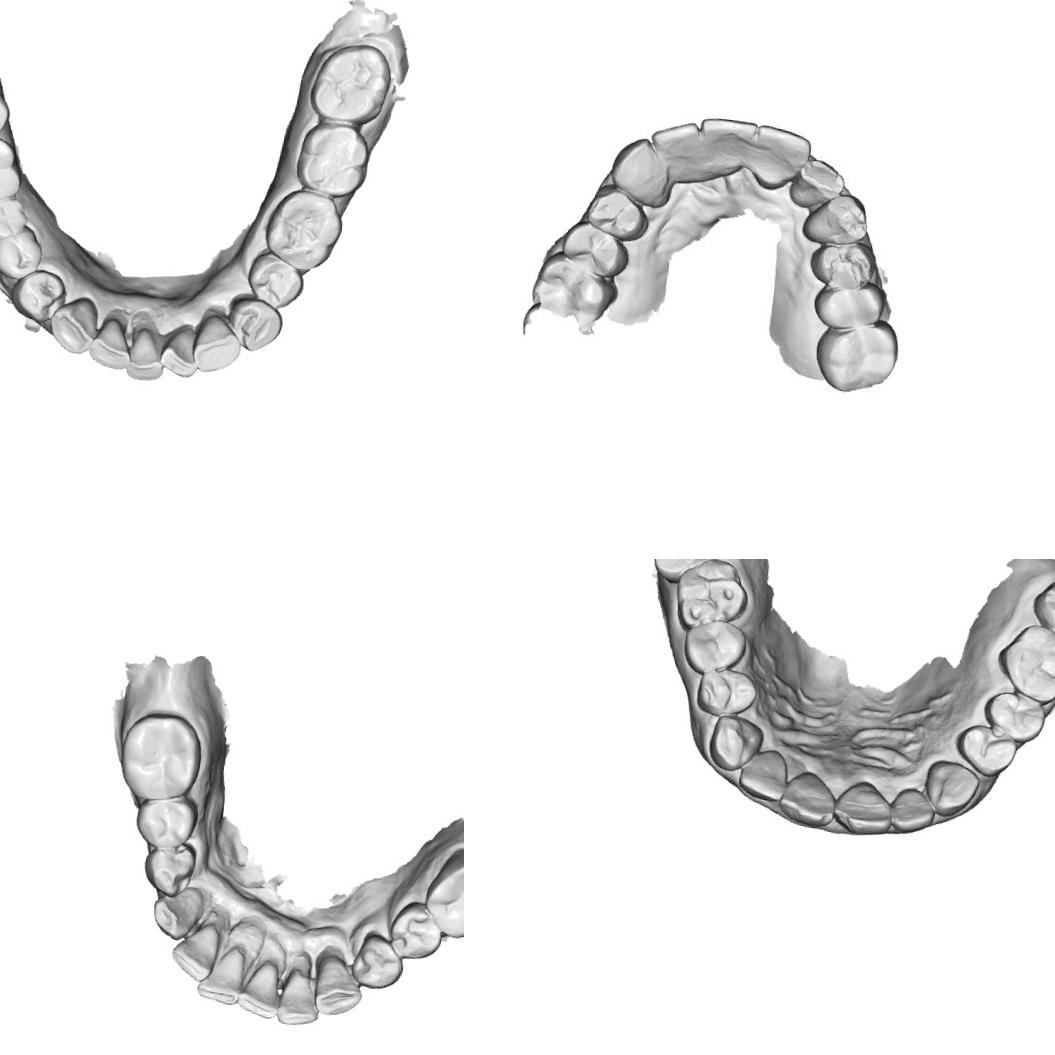canine: (705, 712, 767, 776), (312, 948, 367, 1019), (611, 136, 672, 200), (922, 757, 982, 820), (45, 292, 103, 357), (192, 312, 244, 374), (150, 883, 204, 942), (804, 199, 864, 243)
incisor: (693, 114, 756, 181), (751, 122, 812, 190), (830, 777, 896, 839), (776, 768, 839, 830), (644, 120, 706, 182), (194, 941, 250, 1009), (168, 920, 223, 984), (736, 744, 792, 804), (273, 965, 325, 1028), (235, 956, 282, 1022), (794, 152, 846, 210), (887, 785, 938, 838), (86, 318, 136, 371), (162, 323, 202, 378), (124, 328, 164, 382)
molar: (117, 708, 208, 805), (308, 39, 401, 126), (262, 186, 344, 276), (292, 116, 375, 200), (671, 559, 753, 638), (534, 257, 614, 328), (992, 619, 1055, 707), (821, 318, 892, 388), (418, 844, 464, 943), (643, 559, 730, 589), (1027, 572, 1055, 658), (0, 135, 20, 208)
premolar: (680, 616, 749, 679), (382, 900, 448, 963), (953, 720, 1020, 782), (138, 838, 202, 900), (980, 689, 1048, 746), (694, 663, 761, 720), (817, 280, 887, 334), (561, 224, 626, 281), (133, 793, 198, 850), (245, 251, 306, 311), (349, 932, 408, 994), (226, 294, 284, 352), (586, 184, 648, 238), (8, 272, 67, 323), (810, 243, 875, 286), (0, 226, 47, 283), (0, 195, 28, 243)
